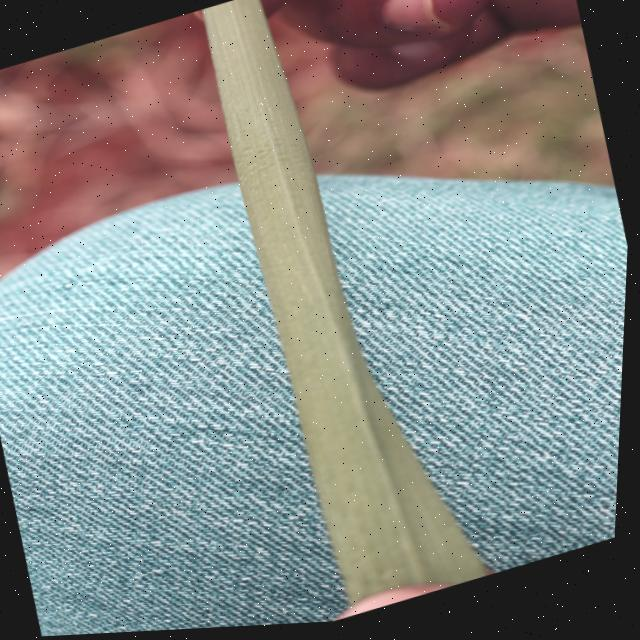healthy_wheat: (135, 0, 533, 634)
